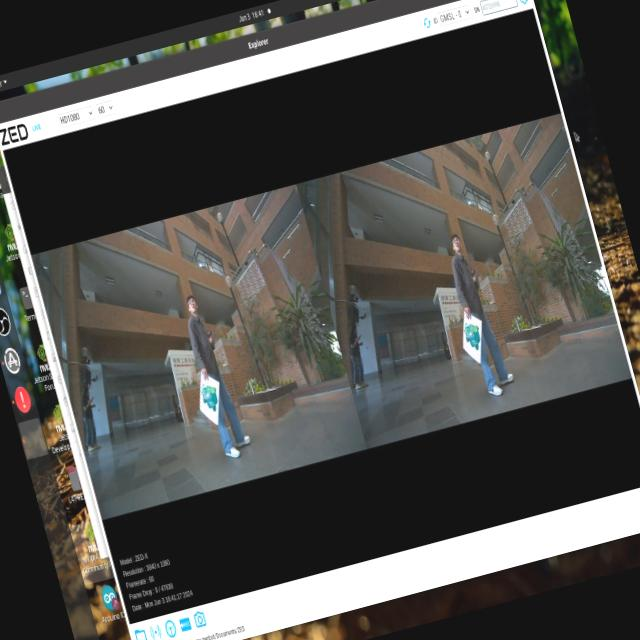green: (190, 377, 228, 418), (457, 312, 493, 354)
